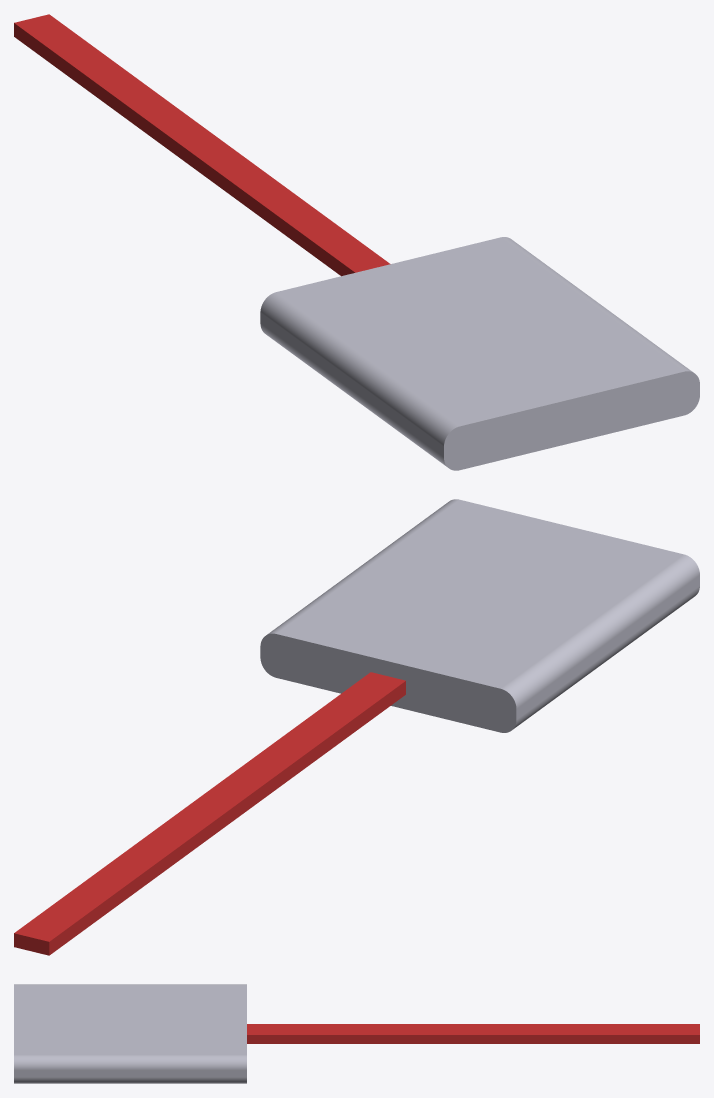
File: lipo_700mAh.glb
3 views of the same model, one above another, from view 1: azimuth 30°, elevation 25°; view 2: azimuth 150°, elevation 25°; view 3: azimuth 270°, elevation 25° (orthographic). The views are drawn at different scales.
Visible parts, largest first — view 1: lipo_700, lipo_leads; view 2: lipo_700, lipo_leads; view 3: lipo_700, lipo_leads.
Part boxes in pixels (<box>): lipo_700: <box>260,237,699,470</box>; lipo_leads: <box>14,14,390,276</box>; lipo_700: <box>260,499,699,732</box>; lipo_leads: <box>14,672,405,955</box>; lipo_700: <box>14,984,246,1083</box>; lipo_leads: <box>247,1024,699,1043</box>.
Bounding box in the file's own units: 0.029 × 0.00475 × 0.106.
